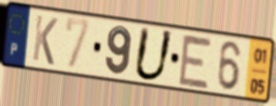6: (216, 40, 244, 93)
7: (63, 15, 93, 72)
9: (103, 24, 134, 78)
E: (176, 31, 214, 91)
K: (30, 12, 60, 68)
U: (132, 25, 176, 84)
